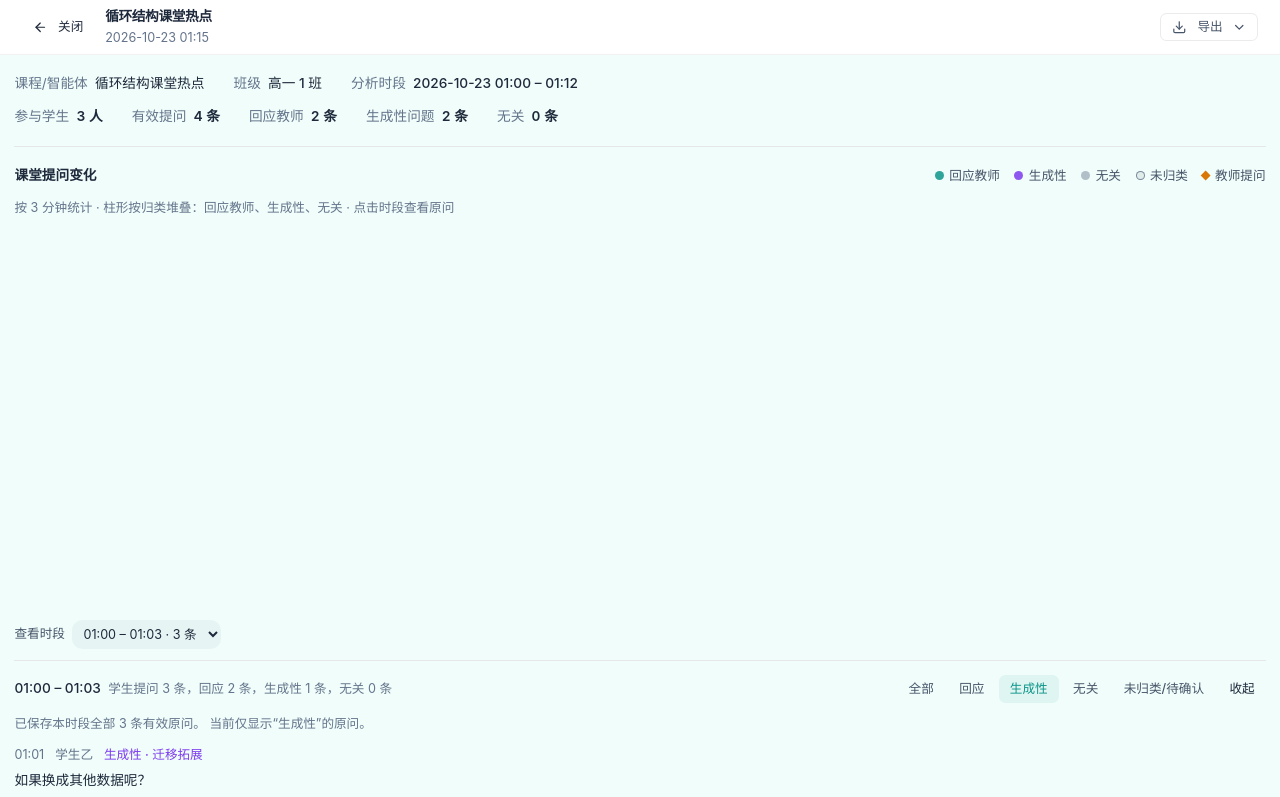
it: 回应 / 生成性归类 › 堆叠柱按类别筛选原问，并展示判断依据与分阶段列表
The width and height of the screenshot is (1280, 797).
Expected: the text "如果换成其他数据呢？" is shown, [14, 772, 151, 788]
Click the button "回应". click: (972, 689)
box: [948, 675, 995, 703]
(page scrolled)
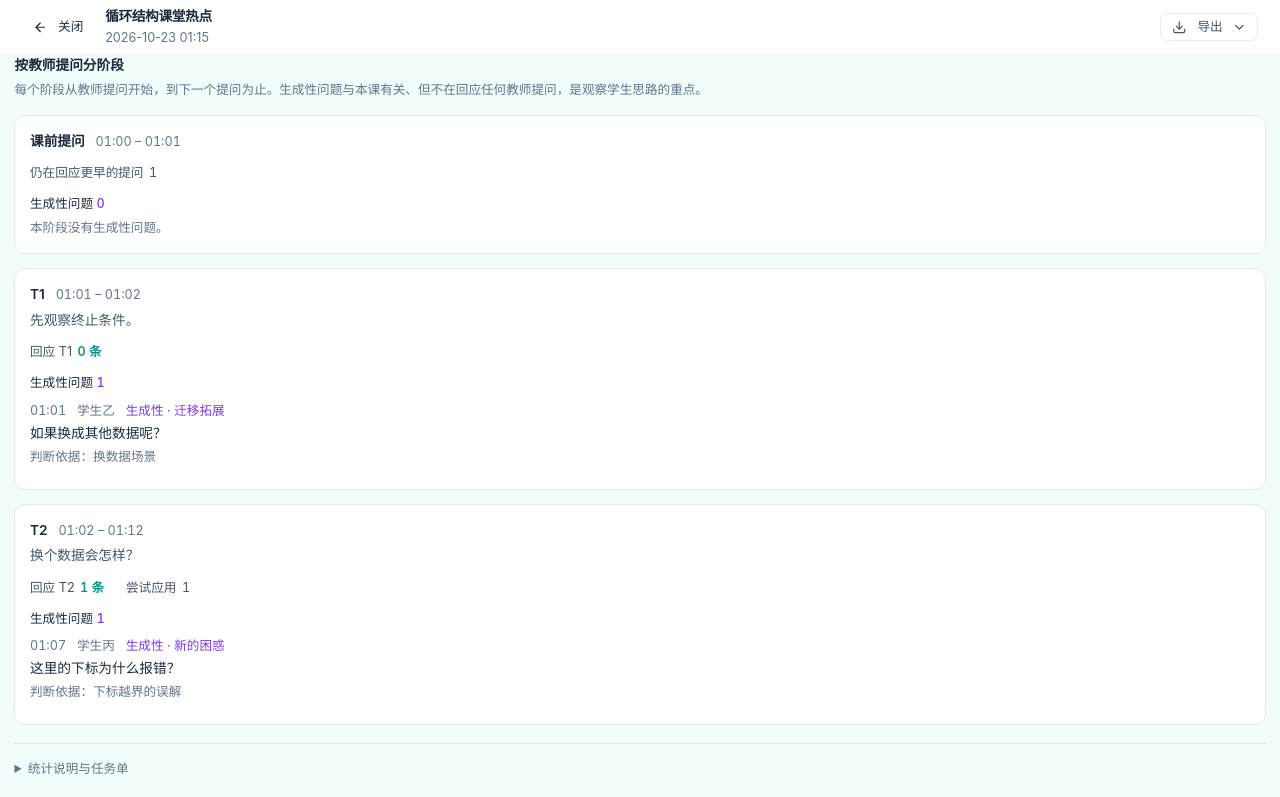
Now the text "先观察终止条件。" is shown, box [30, 312, 139, 328]
Now the text "判断依据：下标越界的误解" is shown, box [30, 684, 181, 699]
